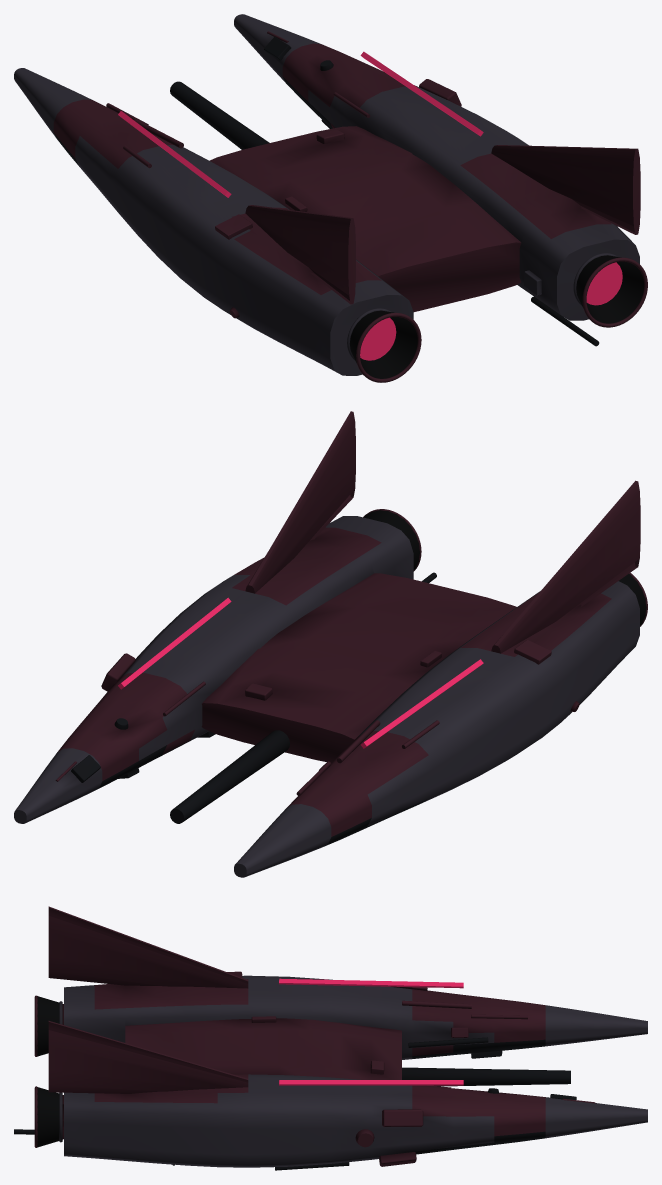
The model's file is raider.glb.
The picture shows the model from 3 angles, top to bottom: view 1: azimuth 30°, elevation 25°; view 2: azimuth 150°, elevation 25°; view 3: azimuth 270°, elevation 25°; orthographic projection. The views are drawn at different scales.
Parts seen in each view (by area): view 1: raider; view 2: raider; view 3: raider.
Part boxes in pixels (x1,y1,x2,y2): raider: (14, 14, 647, 382); raider: (14, 411, 647, 877); raider: (14, 906, 647, 1170).
Size of the model in its own units: 11.48 by 5.68 by 22.
